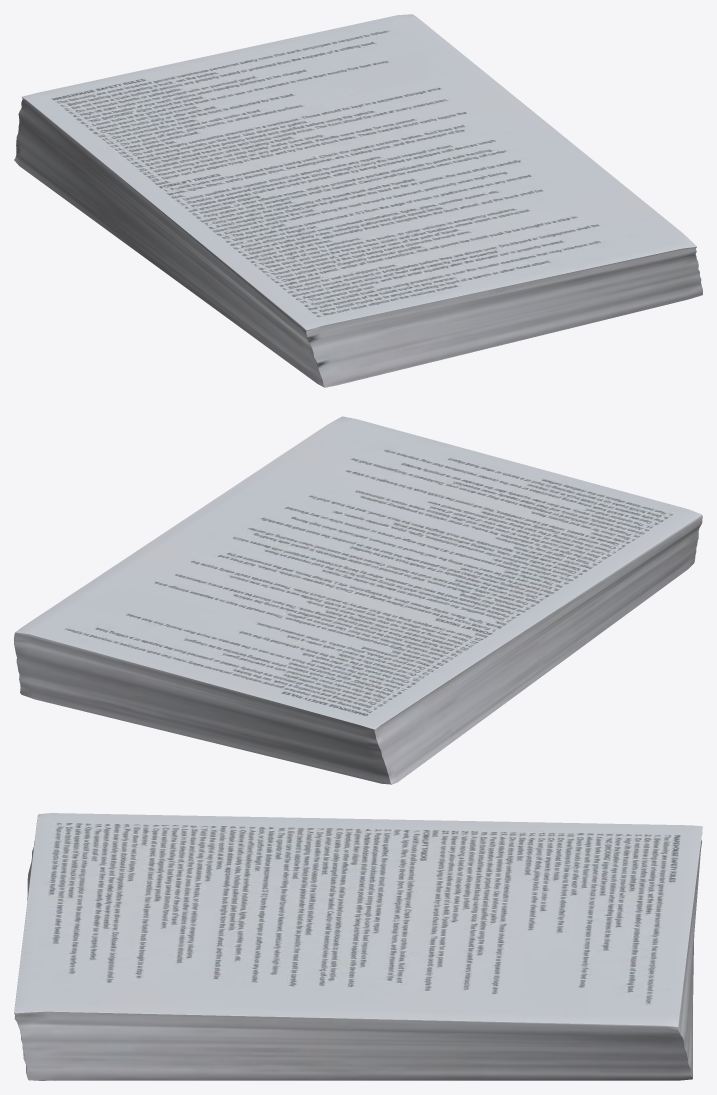
The model's file is paper_stack_a01.glb.
3 renders of one model, top to bottom at view 1: azimuth 30°, elevation 25°; view 2: azimuth 150°, elevation 25°; view 3: azimuth 270°, elevation 25°, orthographic. The views are drawn at different scales.
Parts seen in each view (by area): view 1: sm_paper_stack_a01_mesh_00.001; view 2: sm_paper_stack_a01_mesh_00.001; view 3: sm_paper_stack_a01_mesh_00.001.
Boxes of the visible parts, box(x1,y1,x2,y2) form: sm_paper_stack_a01_mesh_00.001: box(14, 14, 702, 387); sm_paper_stack_a01_mesh_00.001: box(14, 416, 702, 784); sm_paper_stack_a01_mesh_00.001: box(14, 813, 702, 1080).
Bounding box in the file's own units: 0.2247 × 0.0316 × 0.3081.
Materials: 2 (2 with a texture image).
